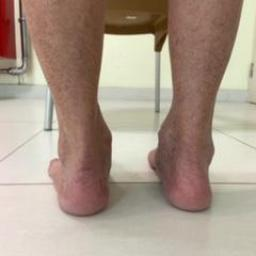Back View -Both Feet-: (36, 94, 232, 226)
